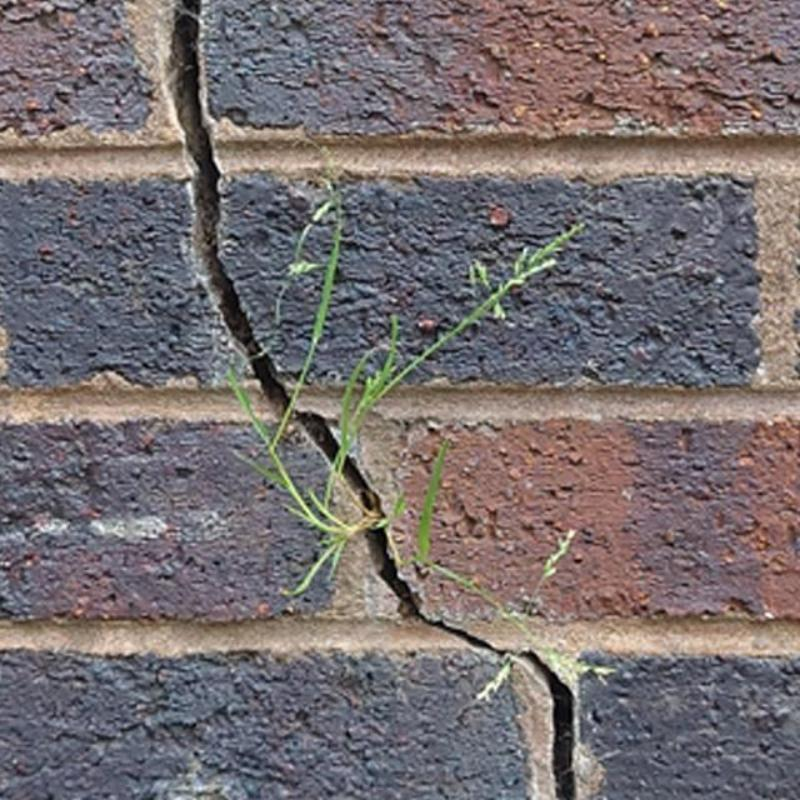crack: (297, 411, 511, 657), (170, 0, 288, 405), (527, 656, 575, 799)
